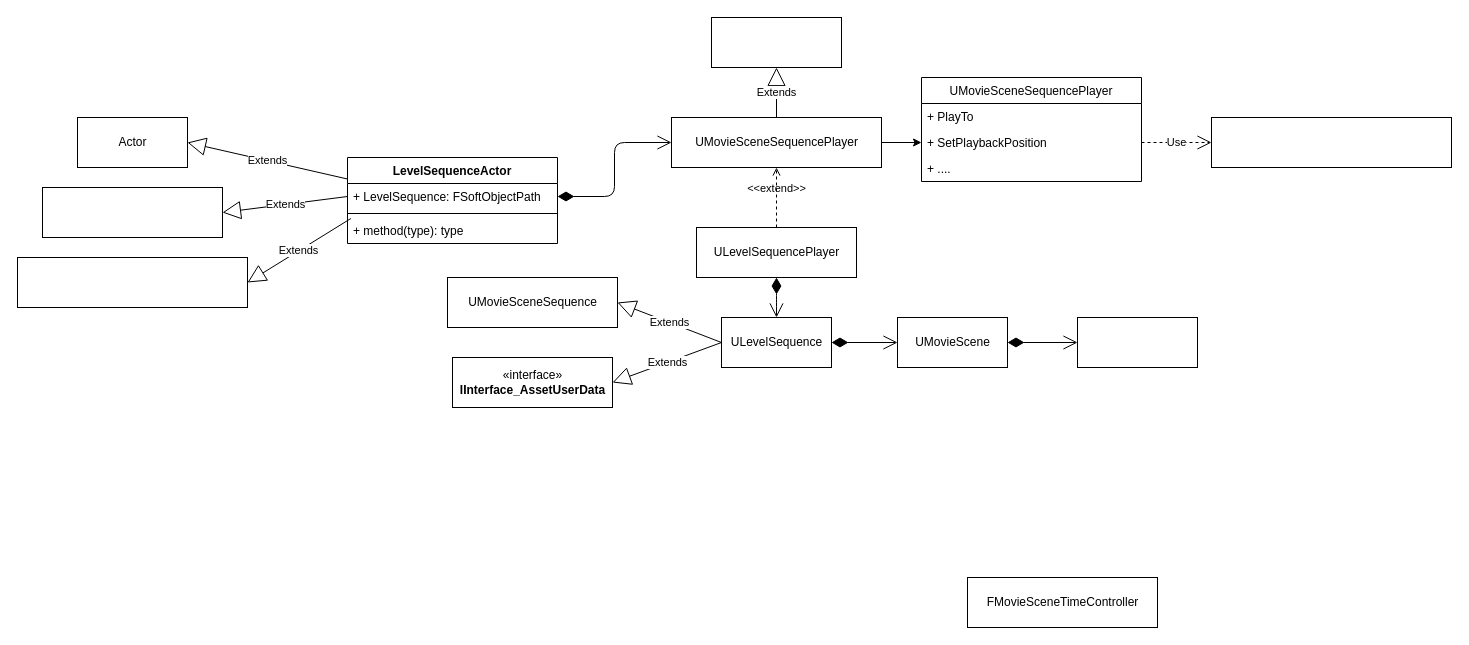
This 1469x645 diagram has some shape labels left out. The shapes that lost their labels are listed below. From the top down, each one's centre as x and y in pixels, then its label:
At [776,42]: "«interface» IMovieScenePlayer".
At [1331,142]: "FMovieSceneSequencePlaybackParams".
At [132,212]: "«interface» IMovieScenePlaybackClient".
At [132,282]: "«interface» IMovieSceneBindingOwnerInterface".
At [1137,342]: "UMovieSceneTrack".
